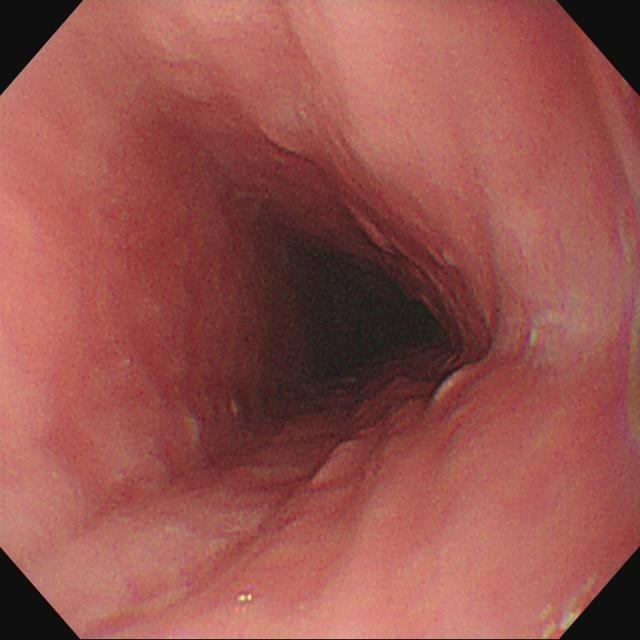E: (255, 222, 462, 404)
